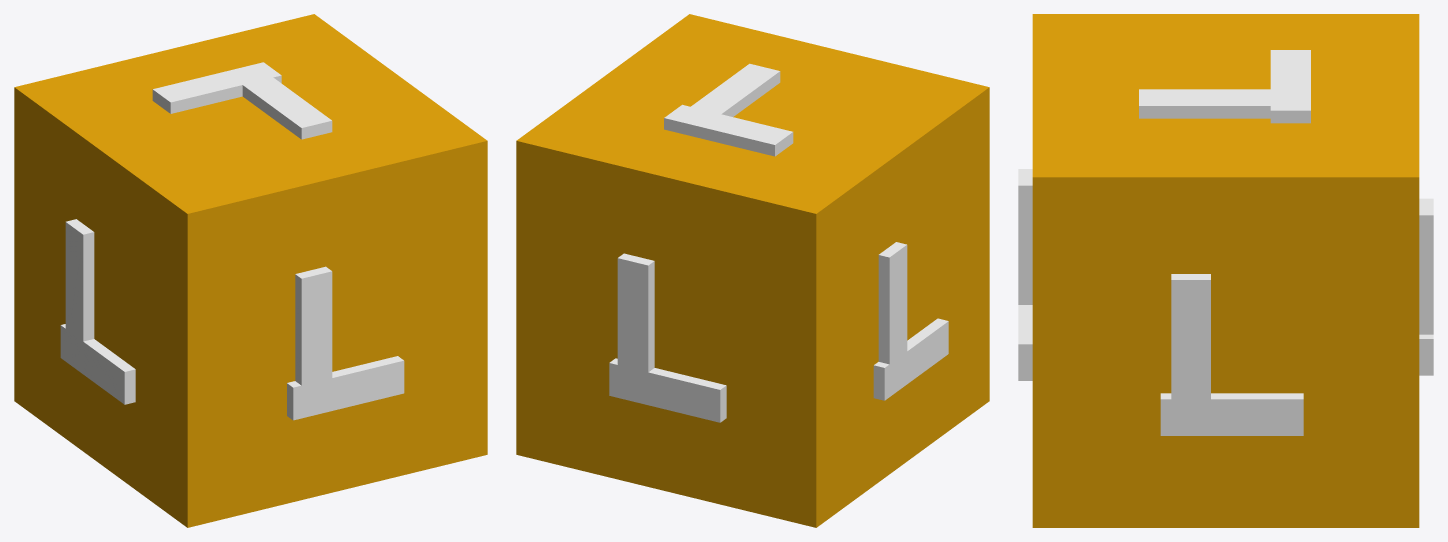
The model's file is DISTRACTOR_0.glb.
3 renders of one model, left to right at view 1: azimuth 30°, elevation 25°; view 2: azimuth 150°, elevation 25°; view 3: azimuth 270°, elevation 25°, orthographic. The views are drawn at different scales.
Visible parts, largest first — view 1: DISTRACTOR_HIGH_0; view 2: DISTRACTOR_HIGH_0; view 3: DISTRACTOR_HIGH_0.
Part boxes in pixels (x1,y1,x2,y2): DISTRACTOR_HIGH_0: [14, 14, 487, 527]; DISTRACTOR_HIGH_0: [516, 14, 989, 527]; DISTRACTOR_HIGH_0: [1018, 14, 1433, 527].
Size of the model in its own units: 2.15 by 2.15 by 2.15.
